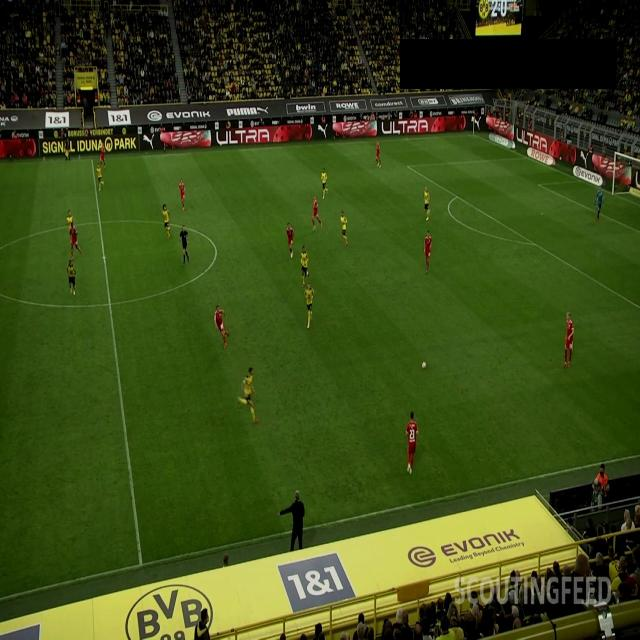ball: (422, 362, 426, 369)
goalkeeper: (595, 187, 604, 222)
player: (239, 367, 258, 424), (406, 410, 418, 474), (562, 312, 574, 369), (214, 304, 229, 349), (194, 607, 210, 639), (304, 282, 314, 330), (69, 224, 82, 260), (300, 245, 310, 288), (66, 259, 76, 296), (424, 230, 432, 274), (312, 196, 322, 230), (339, 210, 348, 247), (162, 204, 171, 239), (286, 222, 294, 258), (178, 179, 186, 211), (320, 168, 328, 200), (424, 186, 431, 220), (96, 163, 104, 191), (66, 209, 74, 230), (376, 141, 382, 168), (100, 142, 106, 168)
referee: (180, 223, 190, 265), (64, 131, 71, 161)
